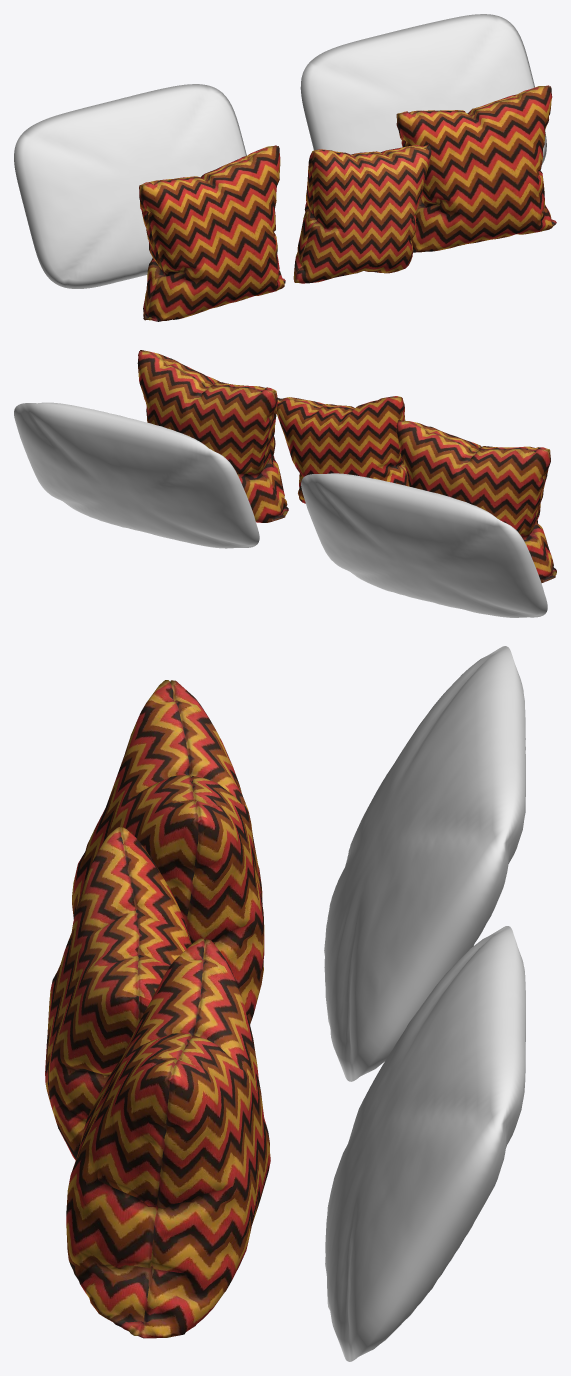
File: bed_pillows.glb
The picture shows the model from 3 angles, top to bottom: view 1: azimuth 30°, elevation 25°; view 2: azimuth 150°, elevation 25°; view 3: azimuth 270°, elevation 25°; orthographic projection. The views are drawn at different scales.
Visible parts, largest first — view 1: pillow_white_0, pillow_white_1, pillow_square_0, pillow_square_1, pillow_accent; view 2: pillow_white_0, pillow_white_1, pillow_square_1, pillow_square_0, pillow_accent; view 3: pillow_square_1, pillow_white_1, pillow_white_0, pillow_square_0, pillow_accent.
Boxes of the visible parts, x1,y1,x2,y2 form: pillow_white_0: (14,84,246,288); pillow_white_1: (300,14,546,164); pillow_square_0: (139,145,285,321); pillow_square_1: (396,85,556,252); pillow_accent: (293,144,431,283); pillow_white_0: (301,473,547,617); pillow_white_1: (14,402,259,548); pillow_square_1: (137,350,288,522); pillow_square_0: (396,420,556,582); pillow_accent: (276,396,408,503); pillow_square_1: (66,938,270,1338); pillow_white_1: (325,926,525,1361); pillow_white_0: (324,646,525,1081); pillow_square_0: (72,680,264,1024); pillow_accent: (45,826,191,1160).
Bounding box in the file's own units: 1.78 × 0.4777 × 0.7279.
Materials: 1 (1 with a texture image).
